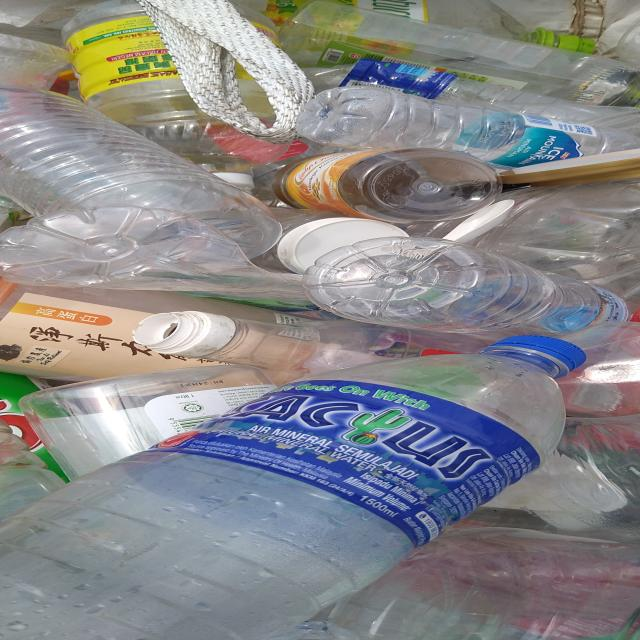plastic: (0, 338, 640, 640), (300, 57, 640, 334), (0, 73, 353, 338), (52, 3, 296, 157)
